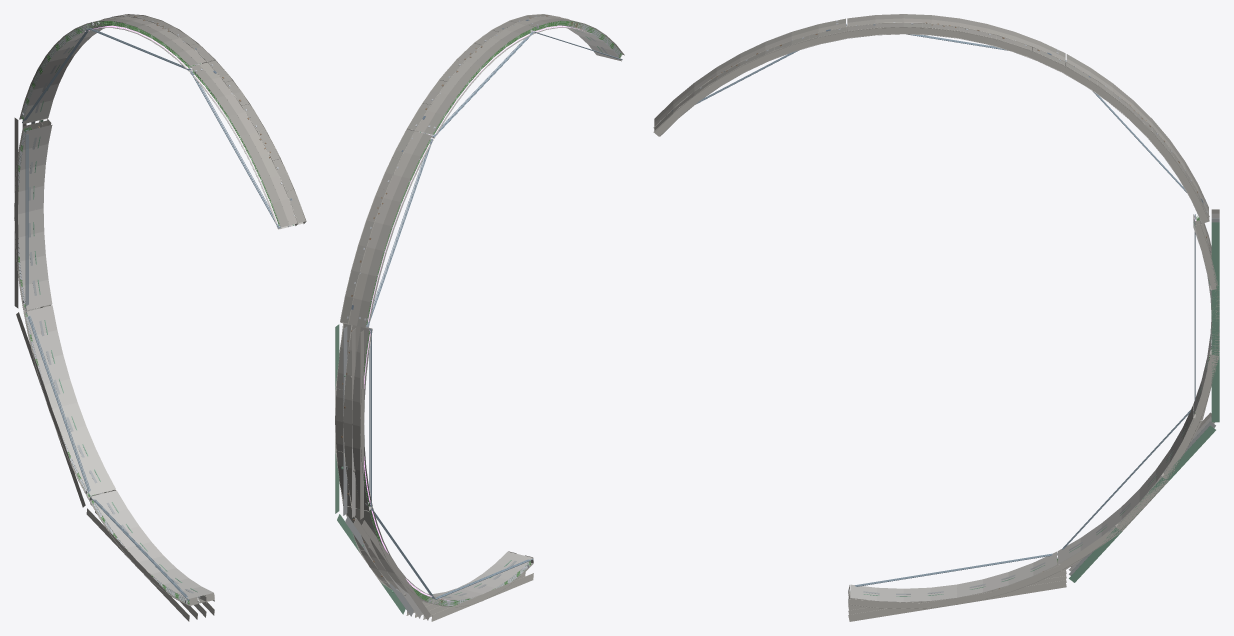
The model's file is xuanshu_interior_C49.glb.
3 views of the same model, side by side, from view 1: azimuth 30°, elevation 25°; view 2: azimuth 150°, elevation 25°; view 3: azimuth 270°, elevation 25° (orthographic). The views are drawn at different scales.
Parts seen in each view (by area): view 1: UNIT-AGR-003, UNIT-AGR-004, UNIT-GEN-001; view 2: UNIT-AGR-004, UNIT-AGR-003, UNIT-GEN-001; view 3: UNIT-AGR-004, UNIT-AGR-003, UNIT-GEN-001.
Part boxes in pixels (bbox=[...]): UNIT-AGR-003: bbox=[14, 119, 214, 605]; UNIT-AGR-004: bbox=[19, 14, 306, 229]; UNIT-GEN-001: bbox=[14, 117, 214, 621]; UNIT-AGR-004: bbox=[340, 14, 624, 327]; UNIT-AGR-003: bbox=[335, 323, 533, 607]; UNIT-GEN-001: bbox=[335, 324, 533, 621]; UNIT-AGR-004: bbox=[653, 14, 1209, 223]; UNIT-AGR-003: bbox=[848, 214, 1219, 610]; UNIT-GEN-001: bbox=[848, 209, 1219, 621].
Bounding box in the file's own units: 13.31 × 277 × 239.
